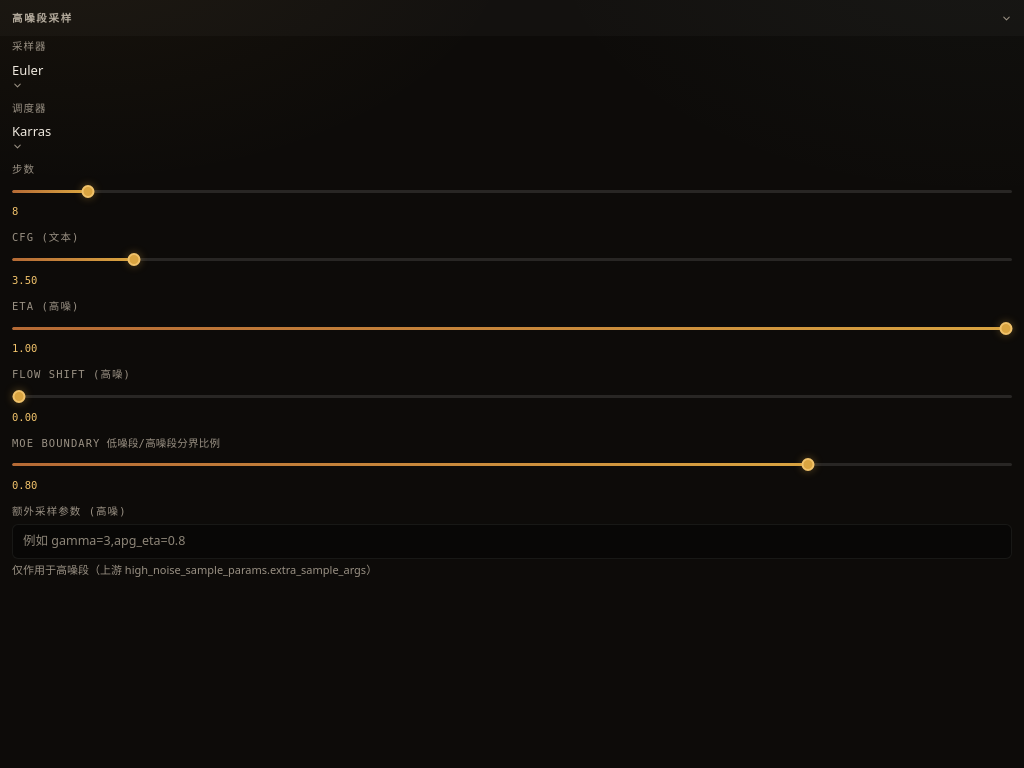
Test: HighNoisePanel 默认（自动）选项 › 切换调度器后默认选项仍保留
What coordinates should you click on to do the following:
click the dropdown named "调度器"
I would click on:
 (32, 136)
Its box is [12,121,51,152].
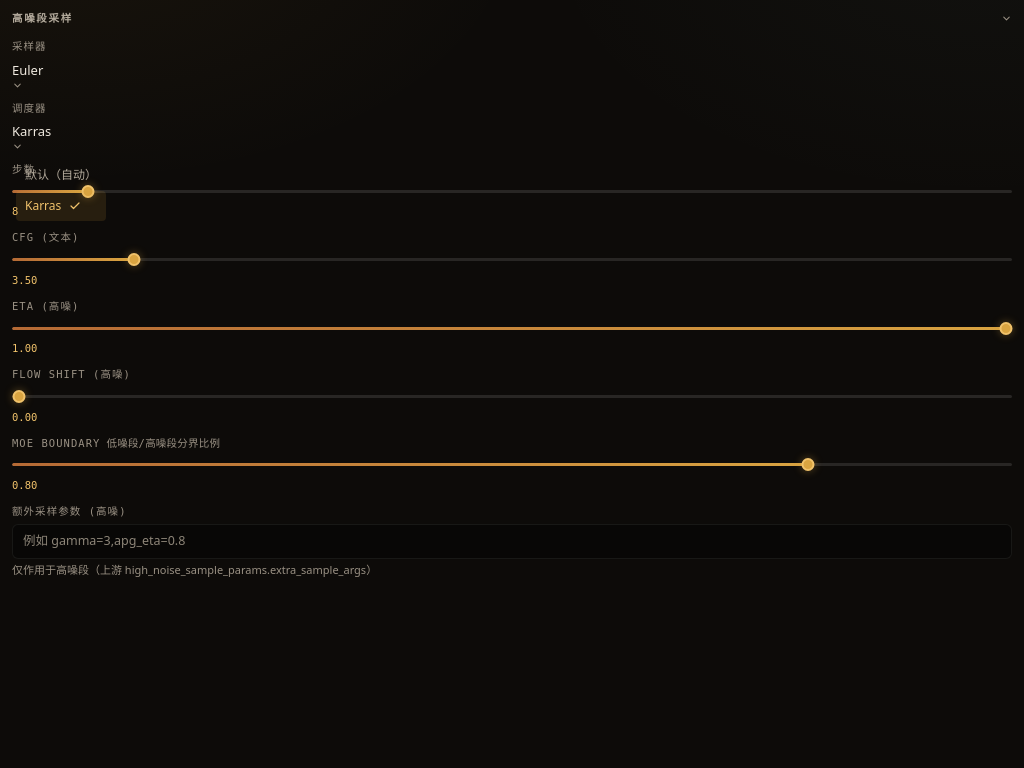
Result: the option "默认（自动）" is shown at [25,166,97,183]
